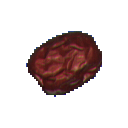gd: (17, 17, 128, 114)
